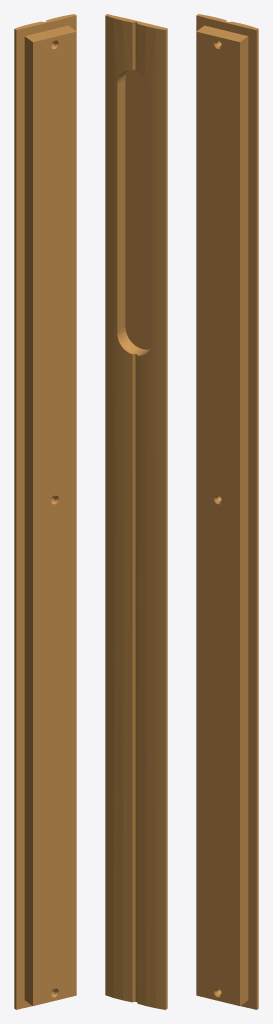
The model's file is mallard pvd gold.glb.
3 renders of one model, left to right at view 1: azimuth 30°, elevation 25°; view 2: azimuth 150°, elevation 25°; view 3: azimuth 330°, elevation 25°, orthographic.
Parts seen in each view (by area): view 1: CONCEAL HANDLE_MALLARD; view 2: CONCEAL HANDLE_MALLARD; view 3: CONCEAL HANDLE_MALLARD.
Part boxes in pixels (left/top/right/bottom): CONCEAL HANDLE_MALLARD: left=14, top=14, right=76, bottom=1009; CONCEAL HANDLE_MALLARD: left=105, top=14, right=167, bottom=1009; CONCEAL HANDLE_MALLARD: left=196, top=14, right=258, bottom=1009.
Bounding box in the file's own units: 1.07 × 16.65 × 0.35.
